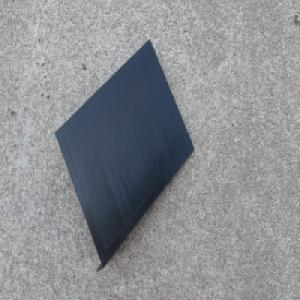PlasticPart: (55, 39, 195, 269)
